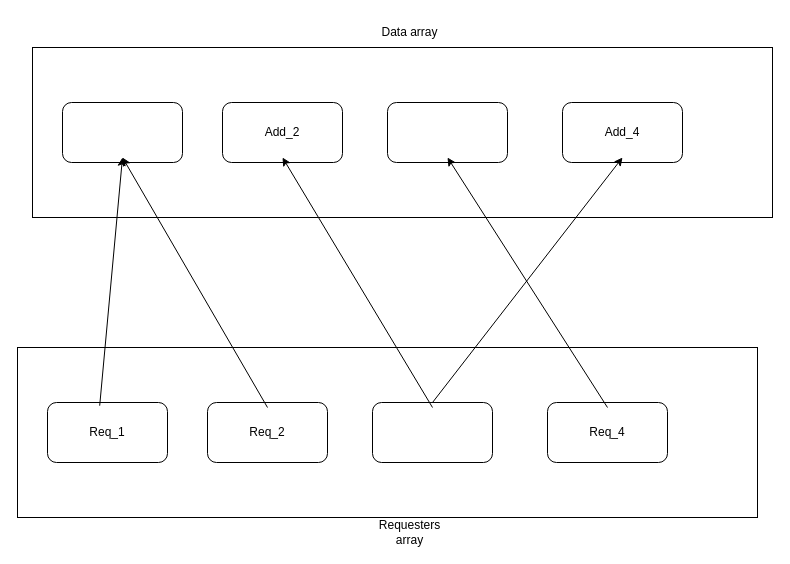
The diagram is 790 pixels wide and 564 high, and some of its shapes have lost their labels. Each missing label, with the box of its shape:
Add_1: (62, 102, 182, 162)
Add_3t: (386, 102, 508, 162)
Req_3: (372, 402, 492, 462)
